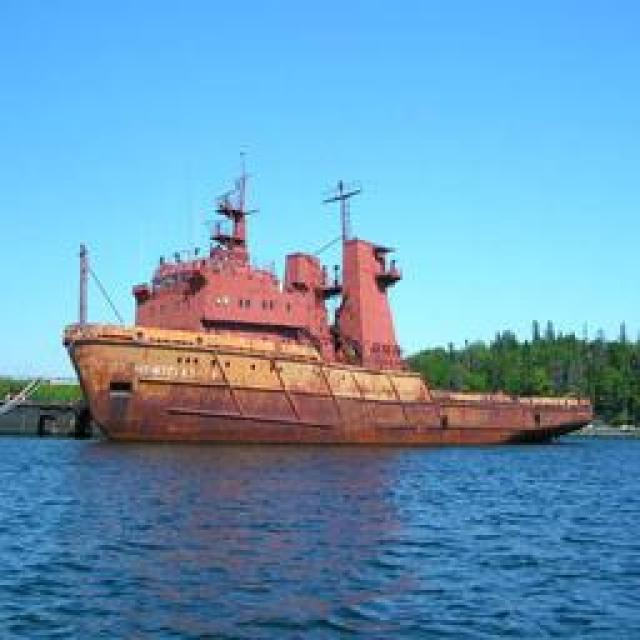CIV_Ship: (58, 146, 590, 449)
